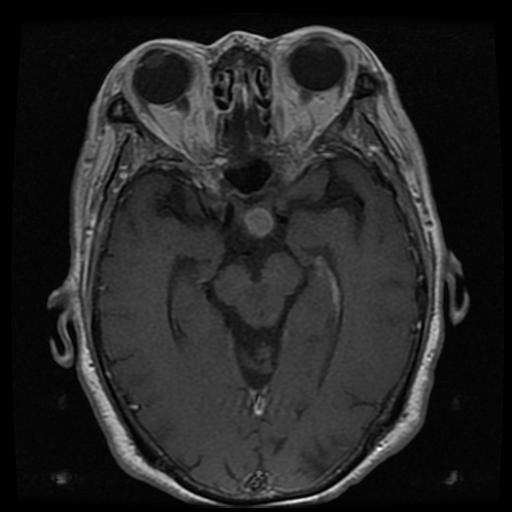Pituirity_tumour: (241, 202, 275, 238)
